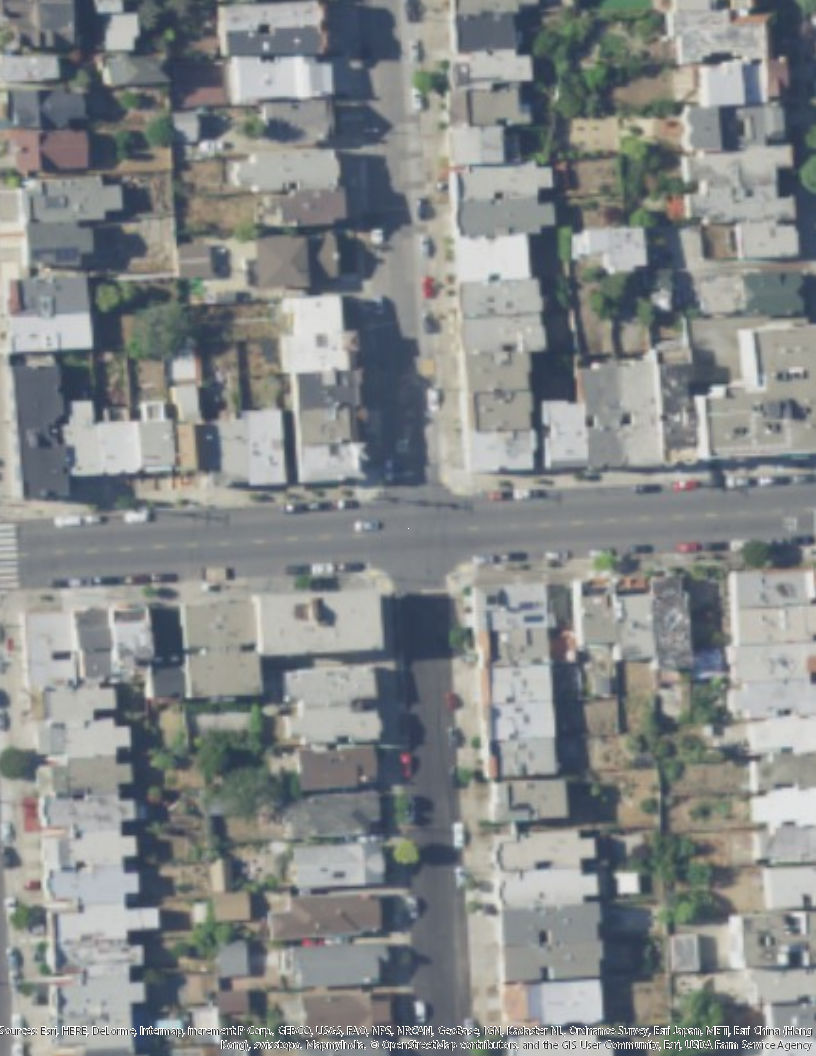zebracross: (1, 524, 19, 584)
